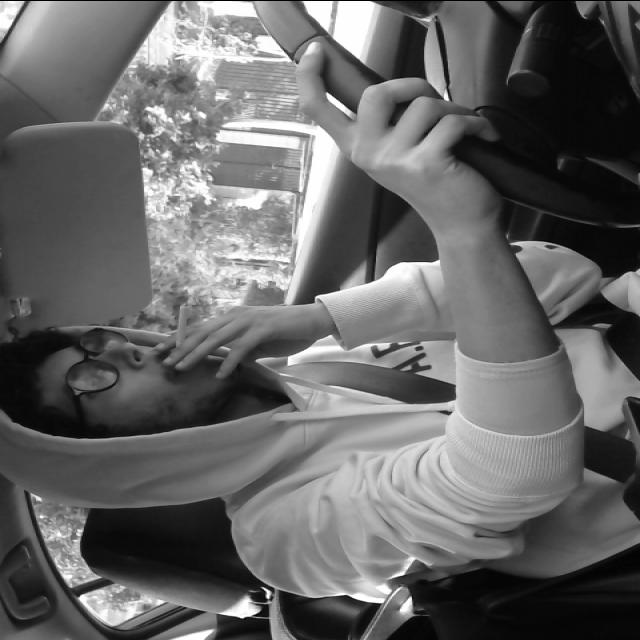smoking: (163, 300, 197, 366)
